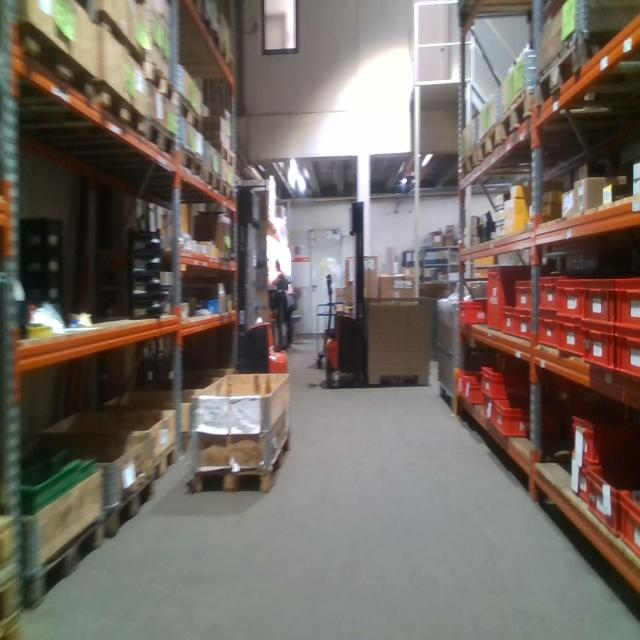pallet: (532, 37, 639, 117), (26, 517, 102, 608), (18, 34, 96, 114), (194, 431, 290, 493), (100, 475, 157, 544), (88, 84, 148, 144), (126, 118, 176, 171), (503, 85, 541, 146), (139, 438, 182, 486), (139, 61, 177, 108), (476, 120, 501, 176), (171, 147, 205, 186), (179, 91, 204, 135), (454, 146, 473, 195), (201, 11, 221, 56), (205, 143, 235, 169), (217, 34, 230, 82), (197, 172, 222, 195), (220, 190, 234, 206)
pallet_truck: (323, 183, 374, 392), (238, 178, 288, 375)
small_load_carrier: (574, 409, 639, 466), (591, 472, 640, 537), (488, 268, 532, 331), (495, 402, 561, 441), (539, 274, 591, 312), (481, 365, 528, 402), (583, 276, 615, 329), (583, 328, 616, 377), (621, 487, 640, 561), (615, 279, 640, 335), (617, 329, 639, 382), (558, 280, 583, 320), (570, 451, 586, 513), (559, 319, 582, 357), (537, 310, 559, 349), (456, 368, 485, 394), (461, 302, 486, 326), (516, 280, 534, 312), (501, 306, 518, 336), (518, 310, 533, 338), (480, 394, 493, 421), (466, 379, 481, 401)
stillage: (362, 296, 432, 389), (438, 300, 456, 404)
